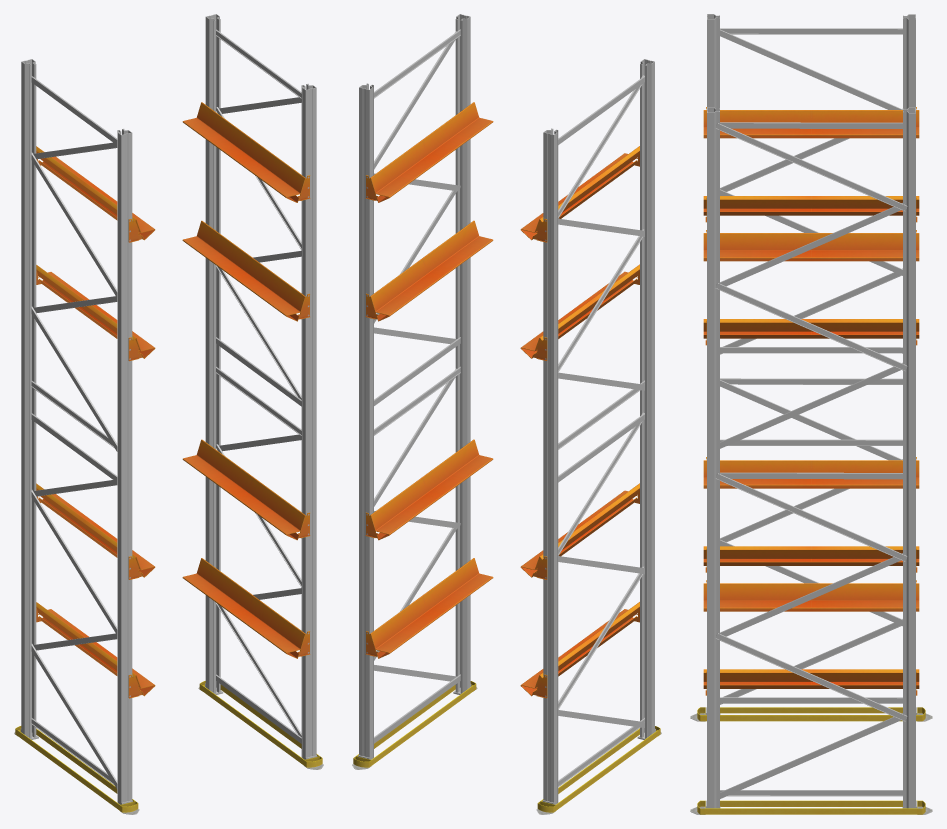
The model's file is 1_Drive-In.fbx.
3 renders of one model, left to right at view 1: azimuth 30°, elevation 25°; view 2: azimuth 150°, elevation 25°; view 3: azimuth 270°, elevation 25°, orthographic. The views are drawn at different scales.
Visible parts, largest first — view 1: Drive-In; view 2: Drive-In; view 3: Drive-In.
Boxes of the visible parts, box(x1,y1,x2,y2) form: Drive-In: box(14, 14, 323, 814); Drive-In: box(352, 14, 661, 814); Drive-In: box(690, 14, 932, 814).
Size of the model in its own units: 155 by 500 by 157.
